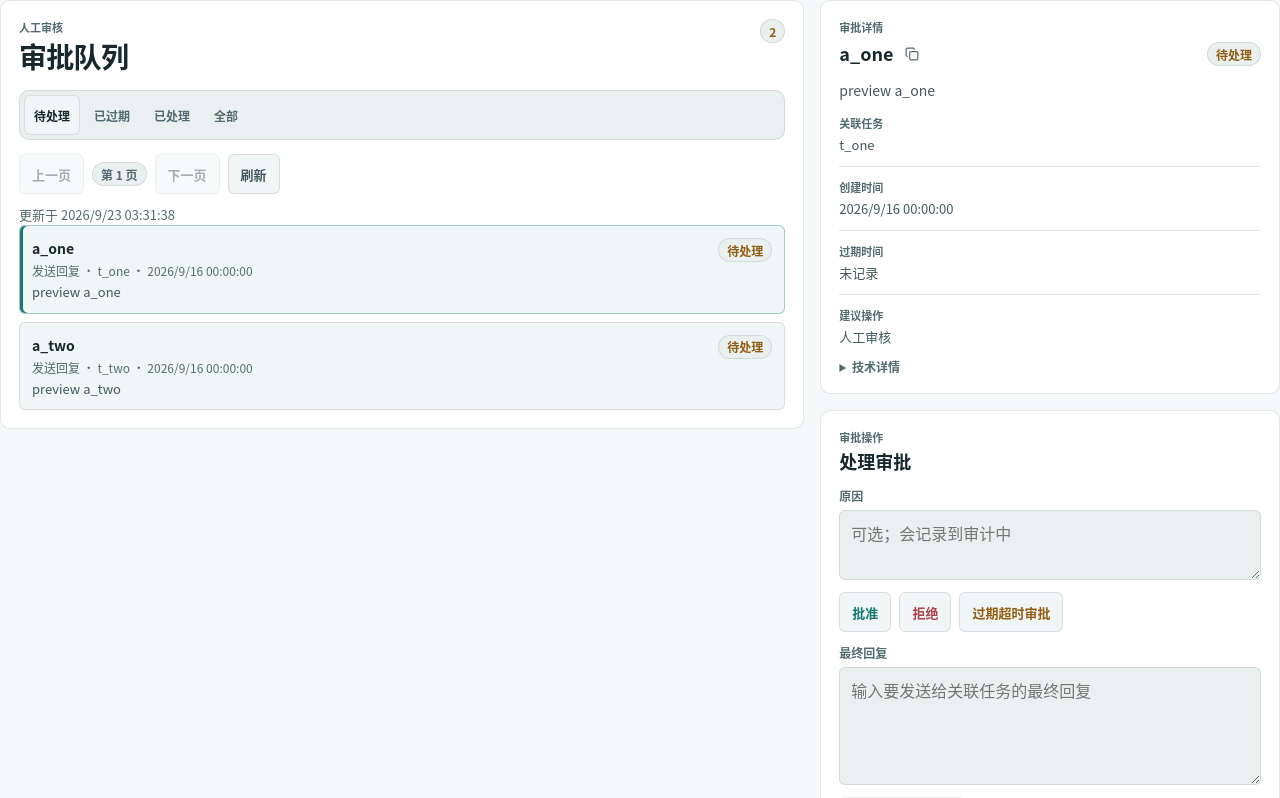
Test: ApprovalsScreen › keeps drafts isolated by approval while switching
Check: the heading "a_one" is shown, box top-left (839, 40), bottom-right (926, 68)
Step 1. Type "reason for A" into the text box labelled "原因" → (1050, 545), box top-left (839, 510), bottom-right (1261, 580)
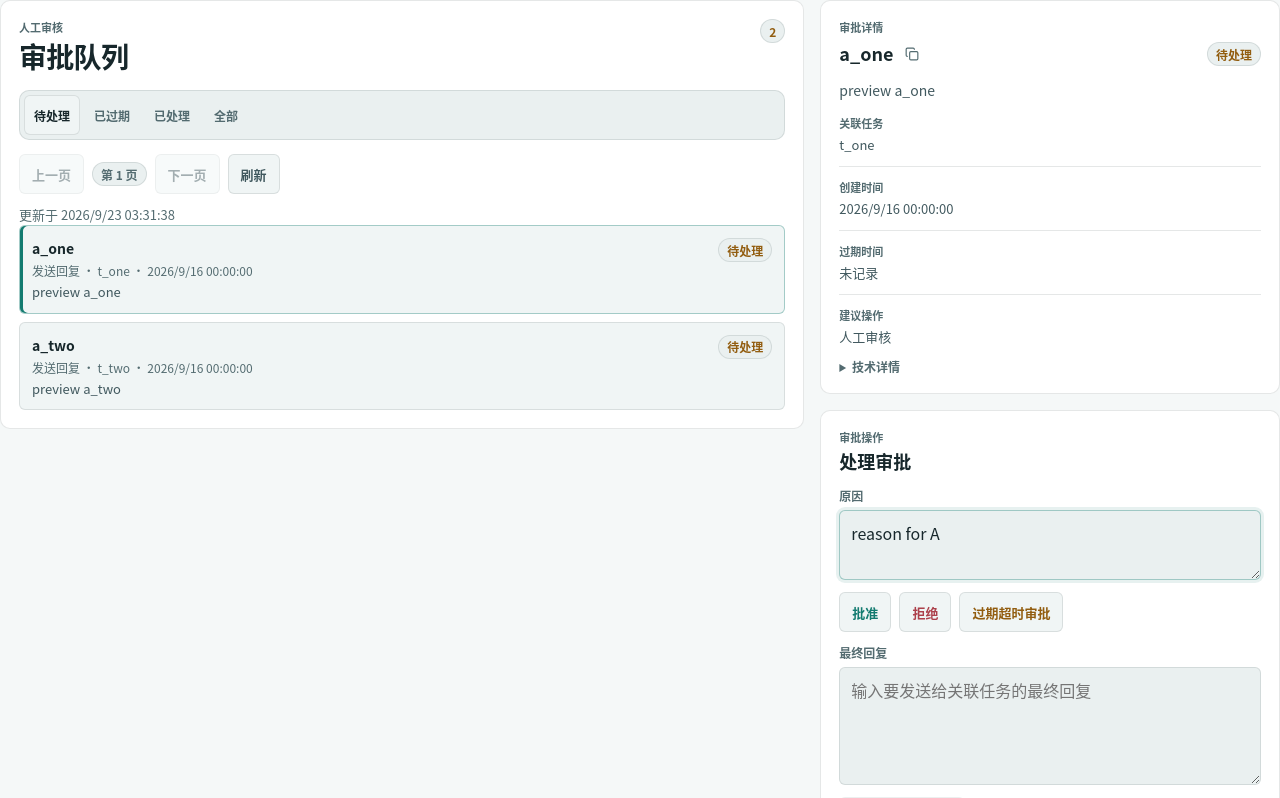
Step 2. Type "reply for A" into the text box labelled "最终回复" → (1050, 726), box top-left (839, 667), bottom-right (1261, 785)
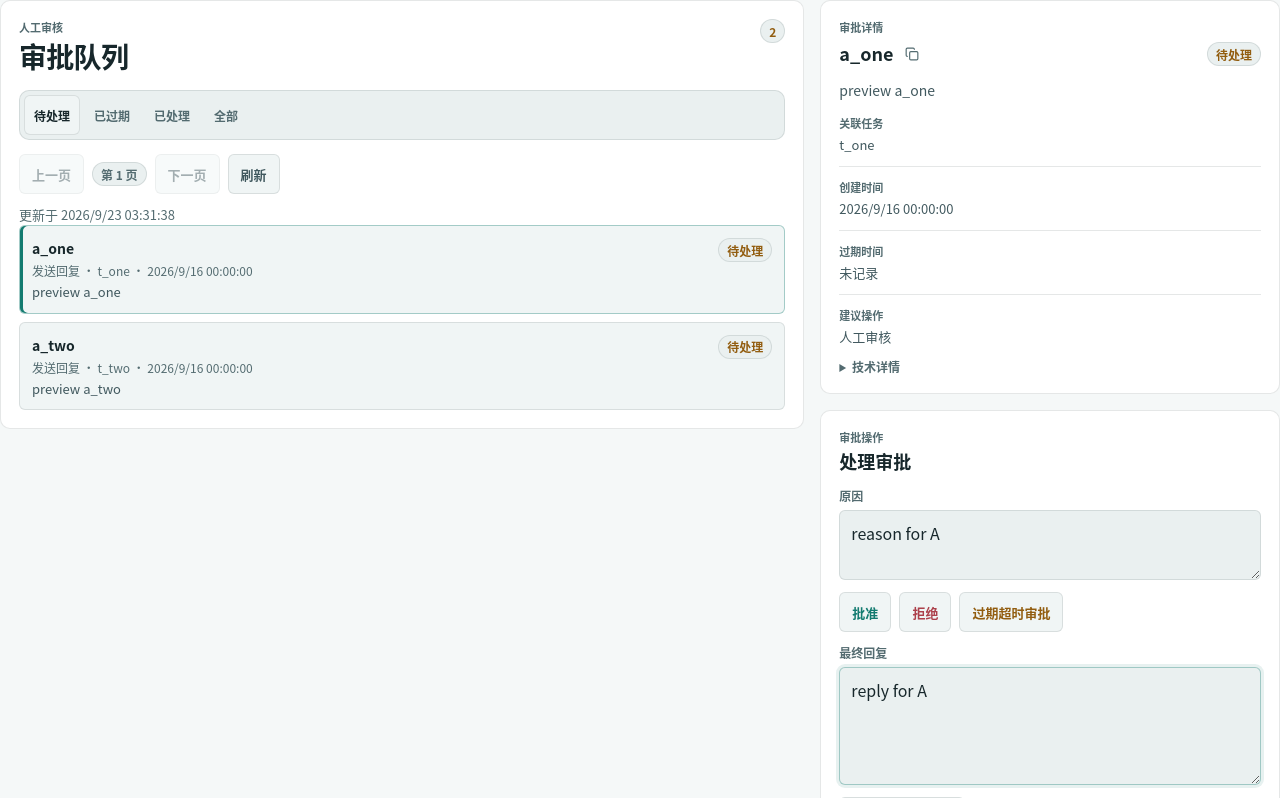
Step 3. Click the button "a_two 发送回复 · t_two · 2026/9/16 00:00:00 preview a_two 待处理" → (53, 345), box top-left (19, 322), bottom-right (785, 410)
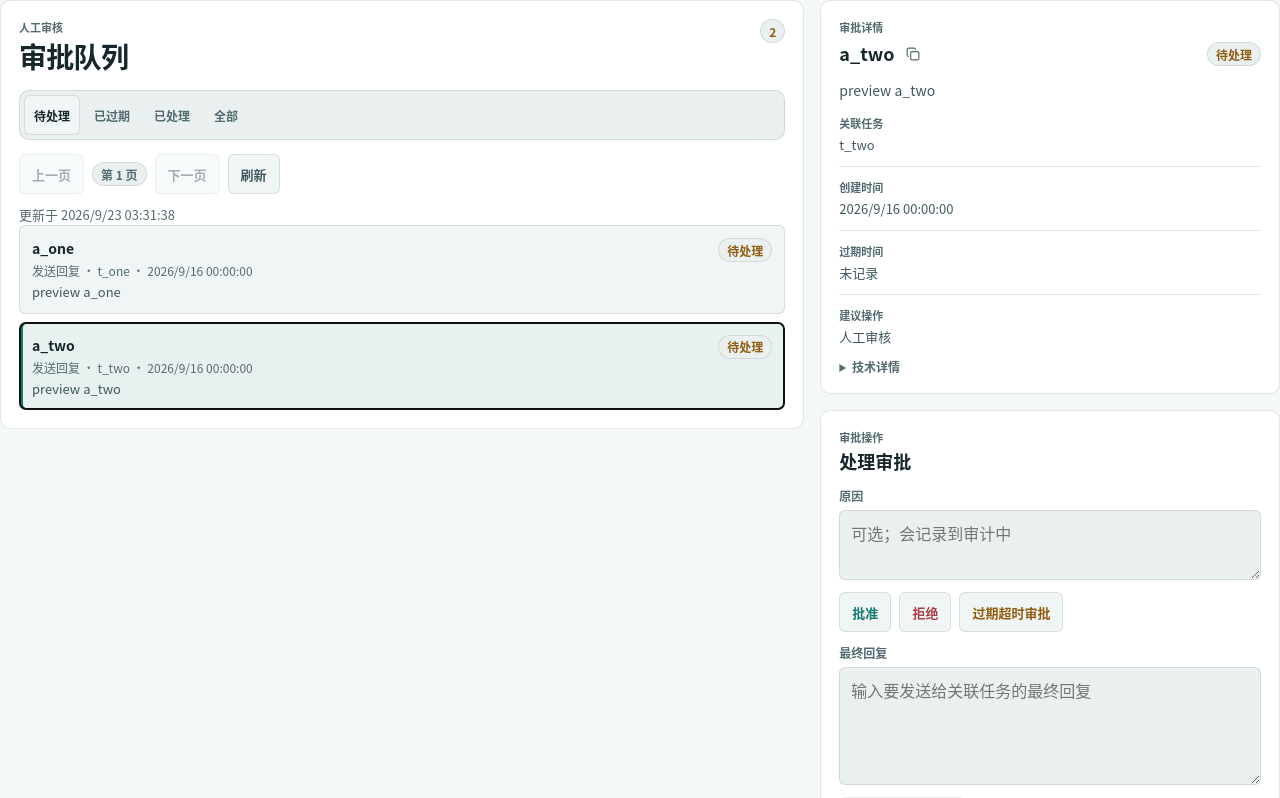
Check: the heading "a_two" is shown, box top-left (839, 40), bottom-right (928, 68)
Check: the text box labelled "原因" is empty
Check: the text box labelled "最终回复" is empty, box top-left (839, 667), bottom-right (1261, 785)
Step 4. Type "reason for B" into the text box labelled "原因" → (1050, 545), box top-left (839, 510), bottom-right (1261, 580)
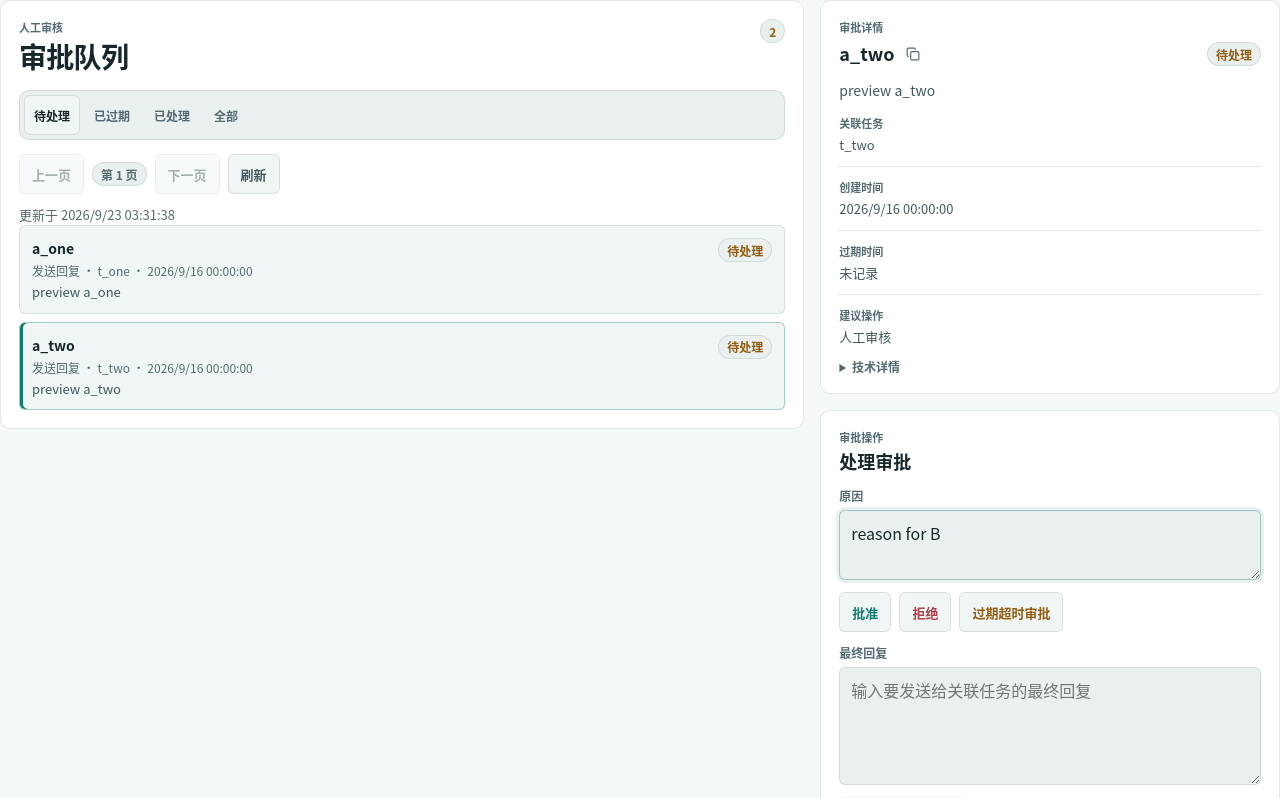
Step 5. Type "reply for B" into the text box labelled "最终回复" → (1050, 726), box top-left (839, 667), bottom-right (1261, 785)
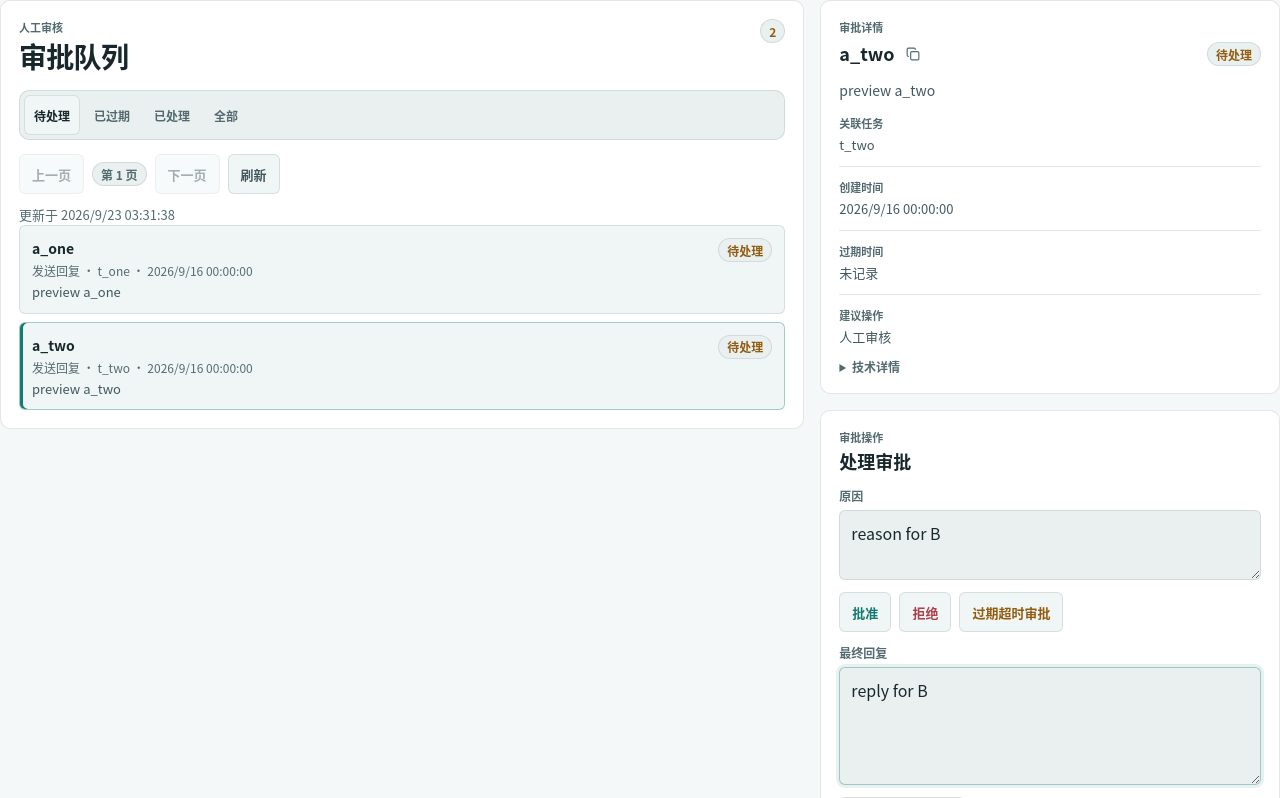
Step 6. Click the button "a_one 发送回复 · t_one · 2026/9/16 00:00:00 preview a_one 待处理" → (53, 248), box top-left (19, 225), bottom-right (785, 314)
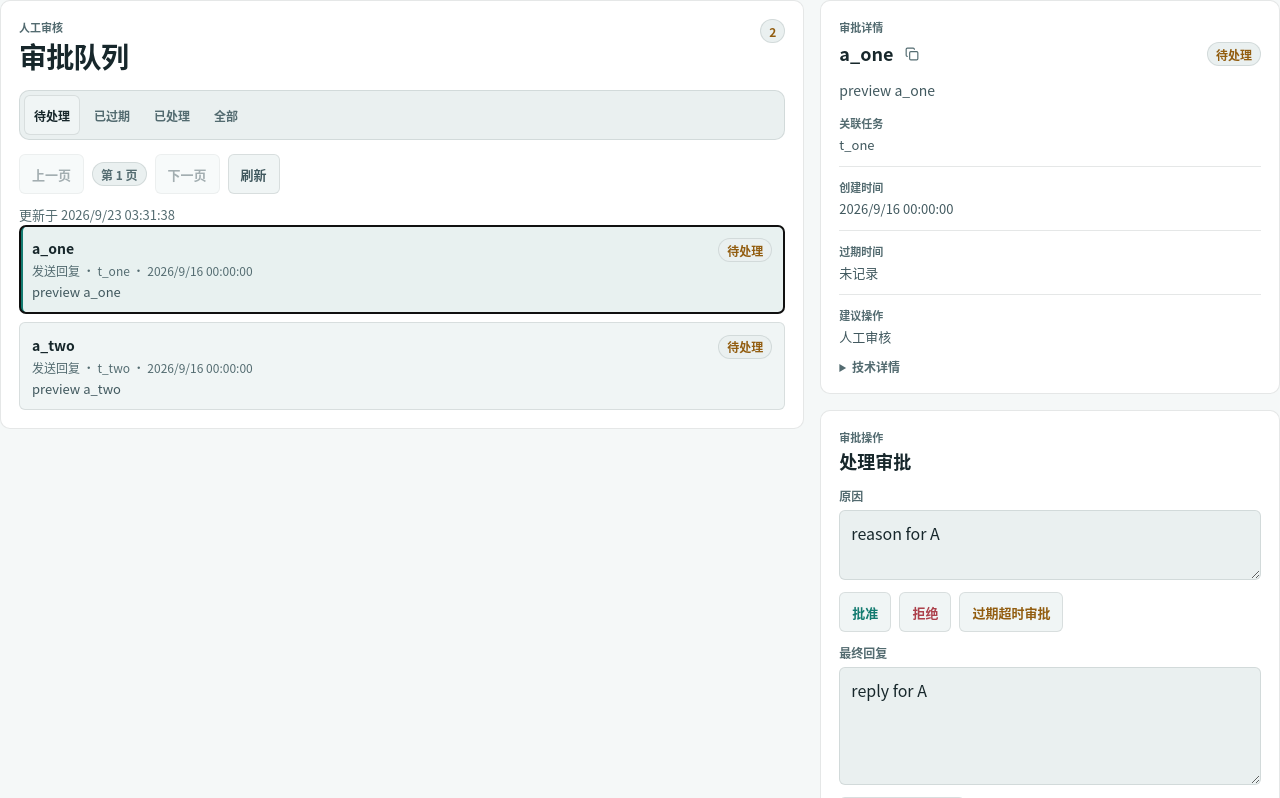
Check: the heading "a_one" is shown, box top-left (839, 40), bottom-right (926, 68)
Check: the text box labelled "原因" holds "reason for A", box top-left (839, 510), bottom-right (1261, 580)
Check: the text box labelled "最终回复" holds "reply for A", box top-left (839, 667), bottom-right (1261, 785)
